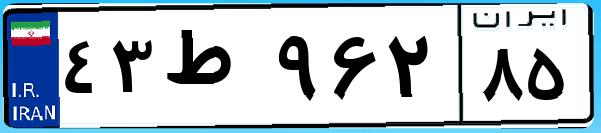2: (385, 28, 445, 110)
3: (110, 28, 158, 98)
4: (57, 26, 110, 100)
5: (525, 38, 570, 115)
6: (330, 28, 385, 110)
8: (475, 38, 525, 113)
9: (270, 28, 330, 110)
ط: (158, 20, 270, 120)
